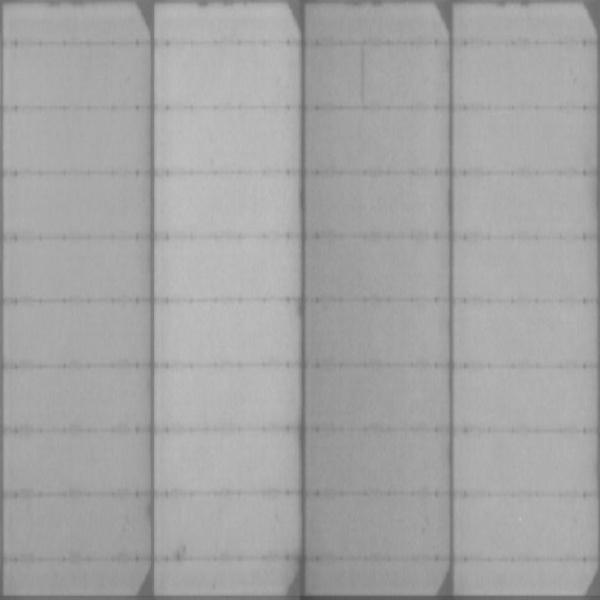scratch: (354, 44, 372, 104)
